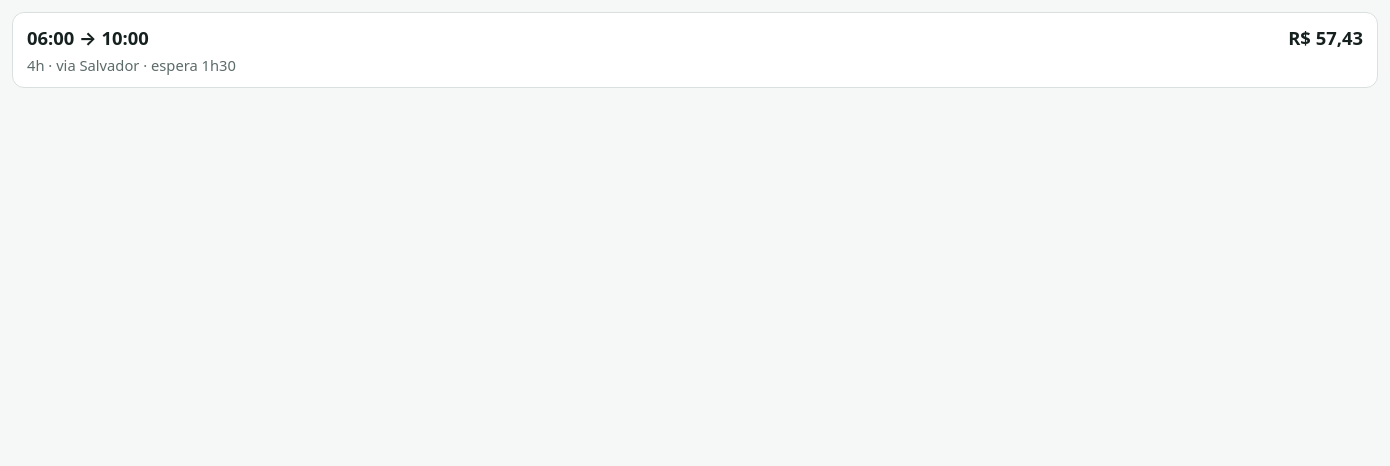
Scenario: ConnectionCard › mesmo ônibus nas duas fontes: os 2 preços, cada um com o seu "Comprar"
Click the button at (51, 38), box [13, 13, 1377, 87]
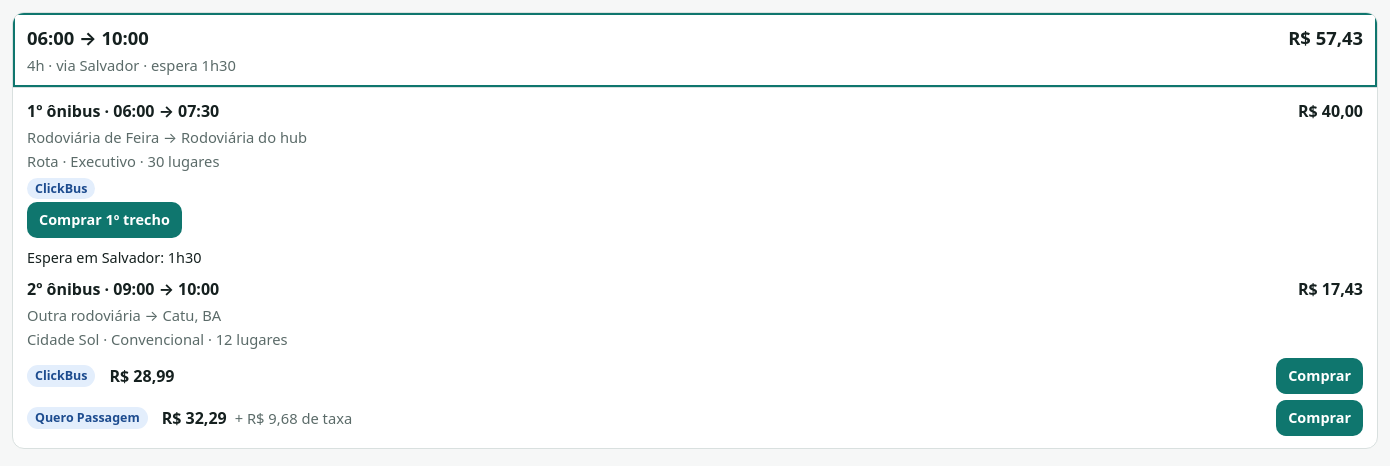
Expected: the text "R$ 32,29" is shown, [162, 407, 227, 429]
Expected: the text "+ R$ 9,68 de taxa" is shown, [235, 408, 352, 428]
Expected: the link "Comprar 1º trecho" is shown, [27, 202, 182, 238]
